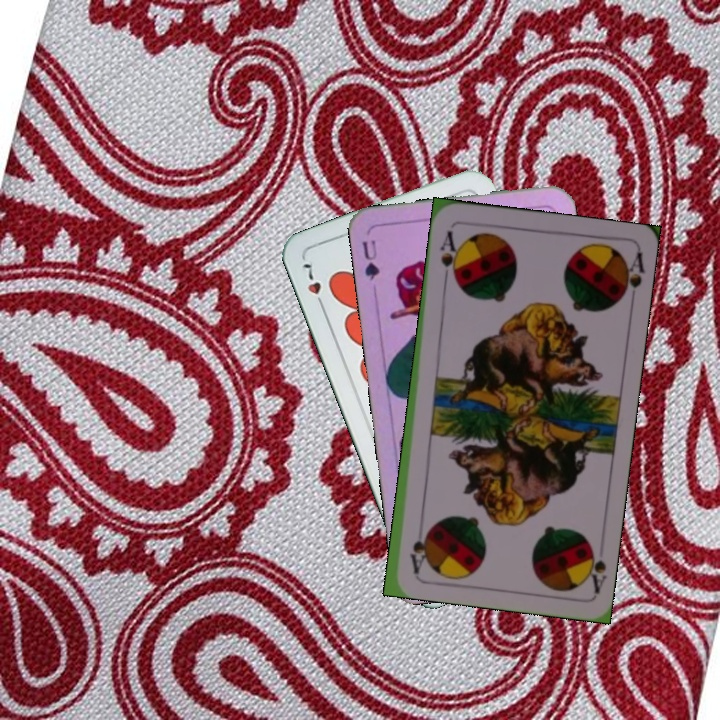GU: (358, 236, 382, 283)
H7: (298, 259, 328, 313)
SA: (579, 537, 609, 596), (436, 227, 462, 285)
